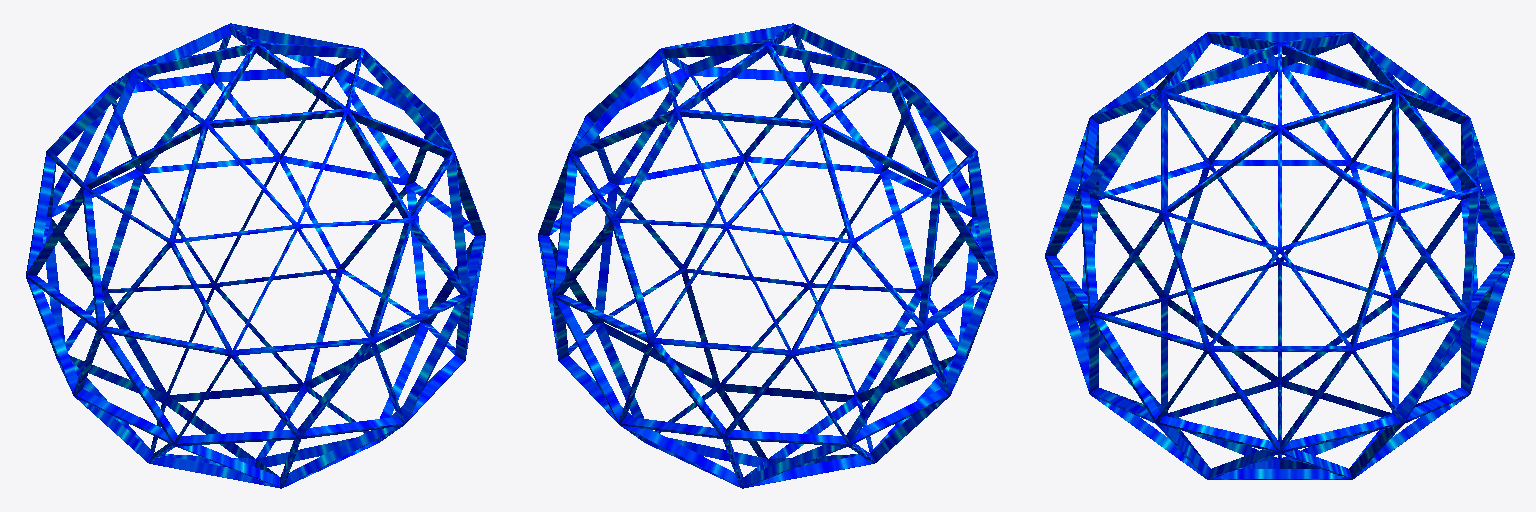
3 renders of one model, left to right at view 1: azimuth 30°, elevation 25°; view 2: azimuth 150°, elevation 25°; view 3: azimuth 270°, elevation 25°, orthographic.
Parts seen in each view (by area): view 1: Icosphere; view 2: Icosphere; view 3: Icosphere.
Boxes of the visible parts, <box> form: Icosphere: <box>26,23,485,488</box>; Icosphere: <box>538,23,997,488</box>; Icosphere: <box>1045,32,1514,479</box>.
Bounding box in the file's own units: 1.81 × 1.9 × 1.9.
Materials: 2 (1 with a texture image).